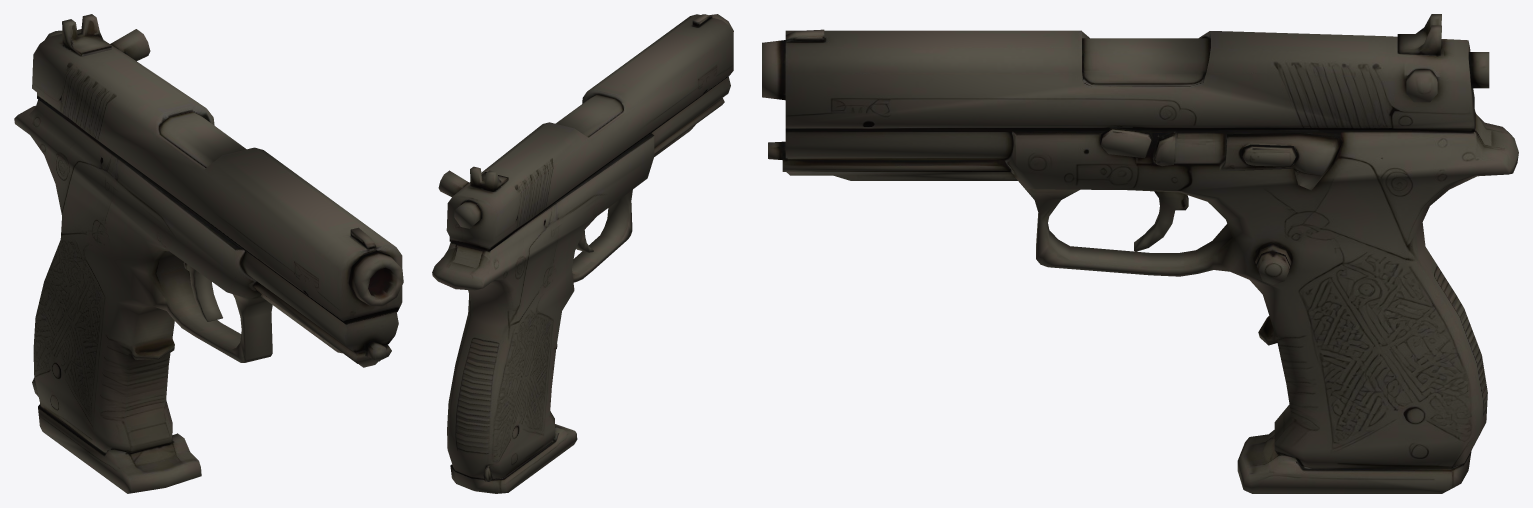
Rendered from pistol.glb.
The picture shows the model from 3 angles, left to right: view 1: azimuth 30°, elevation 25°; view 2: azimuth 150°, elevation 25°; view 3: azimuth 270°, elevation 25°; orthographic projection. The views are drawn at different scales.
Visible parts, largest first — view 1: tripo_node_d58e3f41-c16a-4929-8f46-057d1d180084; view 2: tripo_node_d58e3f41-c16a-4929-8f46-057d1d180084; view 3: tripo_node_d58e3f41-c16a-4929-8f46-057d1d180084.
Part boxes in pixels (x1=…): tripo_node_d58e3f41-c16a-4929-8f46-057d1d180084: x1=14, y1=14, x2=403, y2=493; tripo_node_d58e3f41-c16a-4929-8f46-057d1d180084: x1=432, y1=14, x2=733, y2=493; tripo_node_d58e3f41-c16a-4929-8f46-057d1d180084: x1=762, y1=14, x2=1518, y2=493.
Bounding box in the file's own units: 0.1582 × 0.6582 × 0.998.
Materials: 1 (1 with a texture image).
